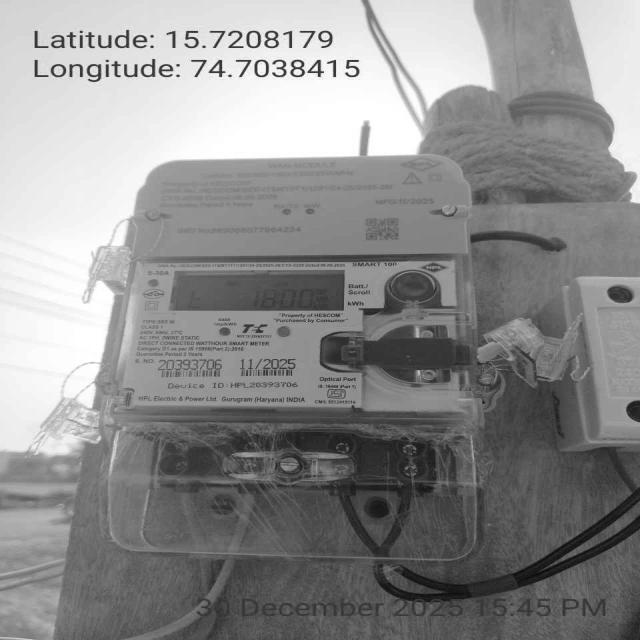meter: (125, 158, 474, 410)
